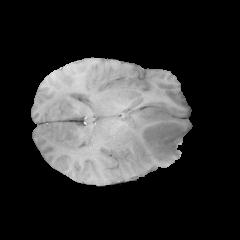glioma: (122, 106, 189, 166)
